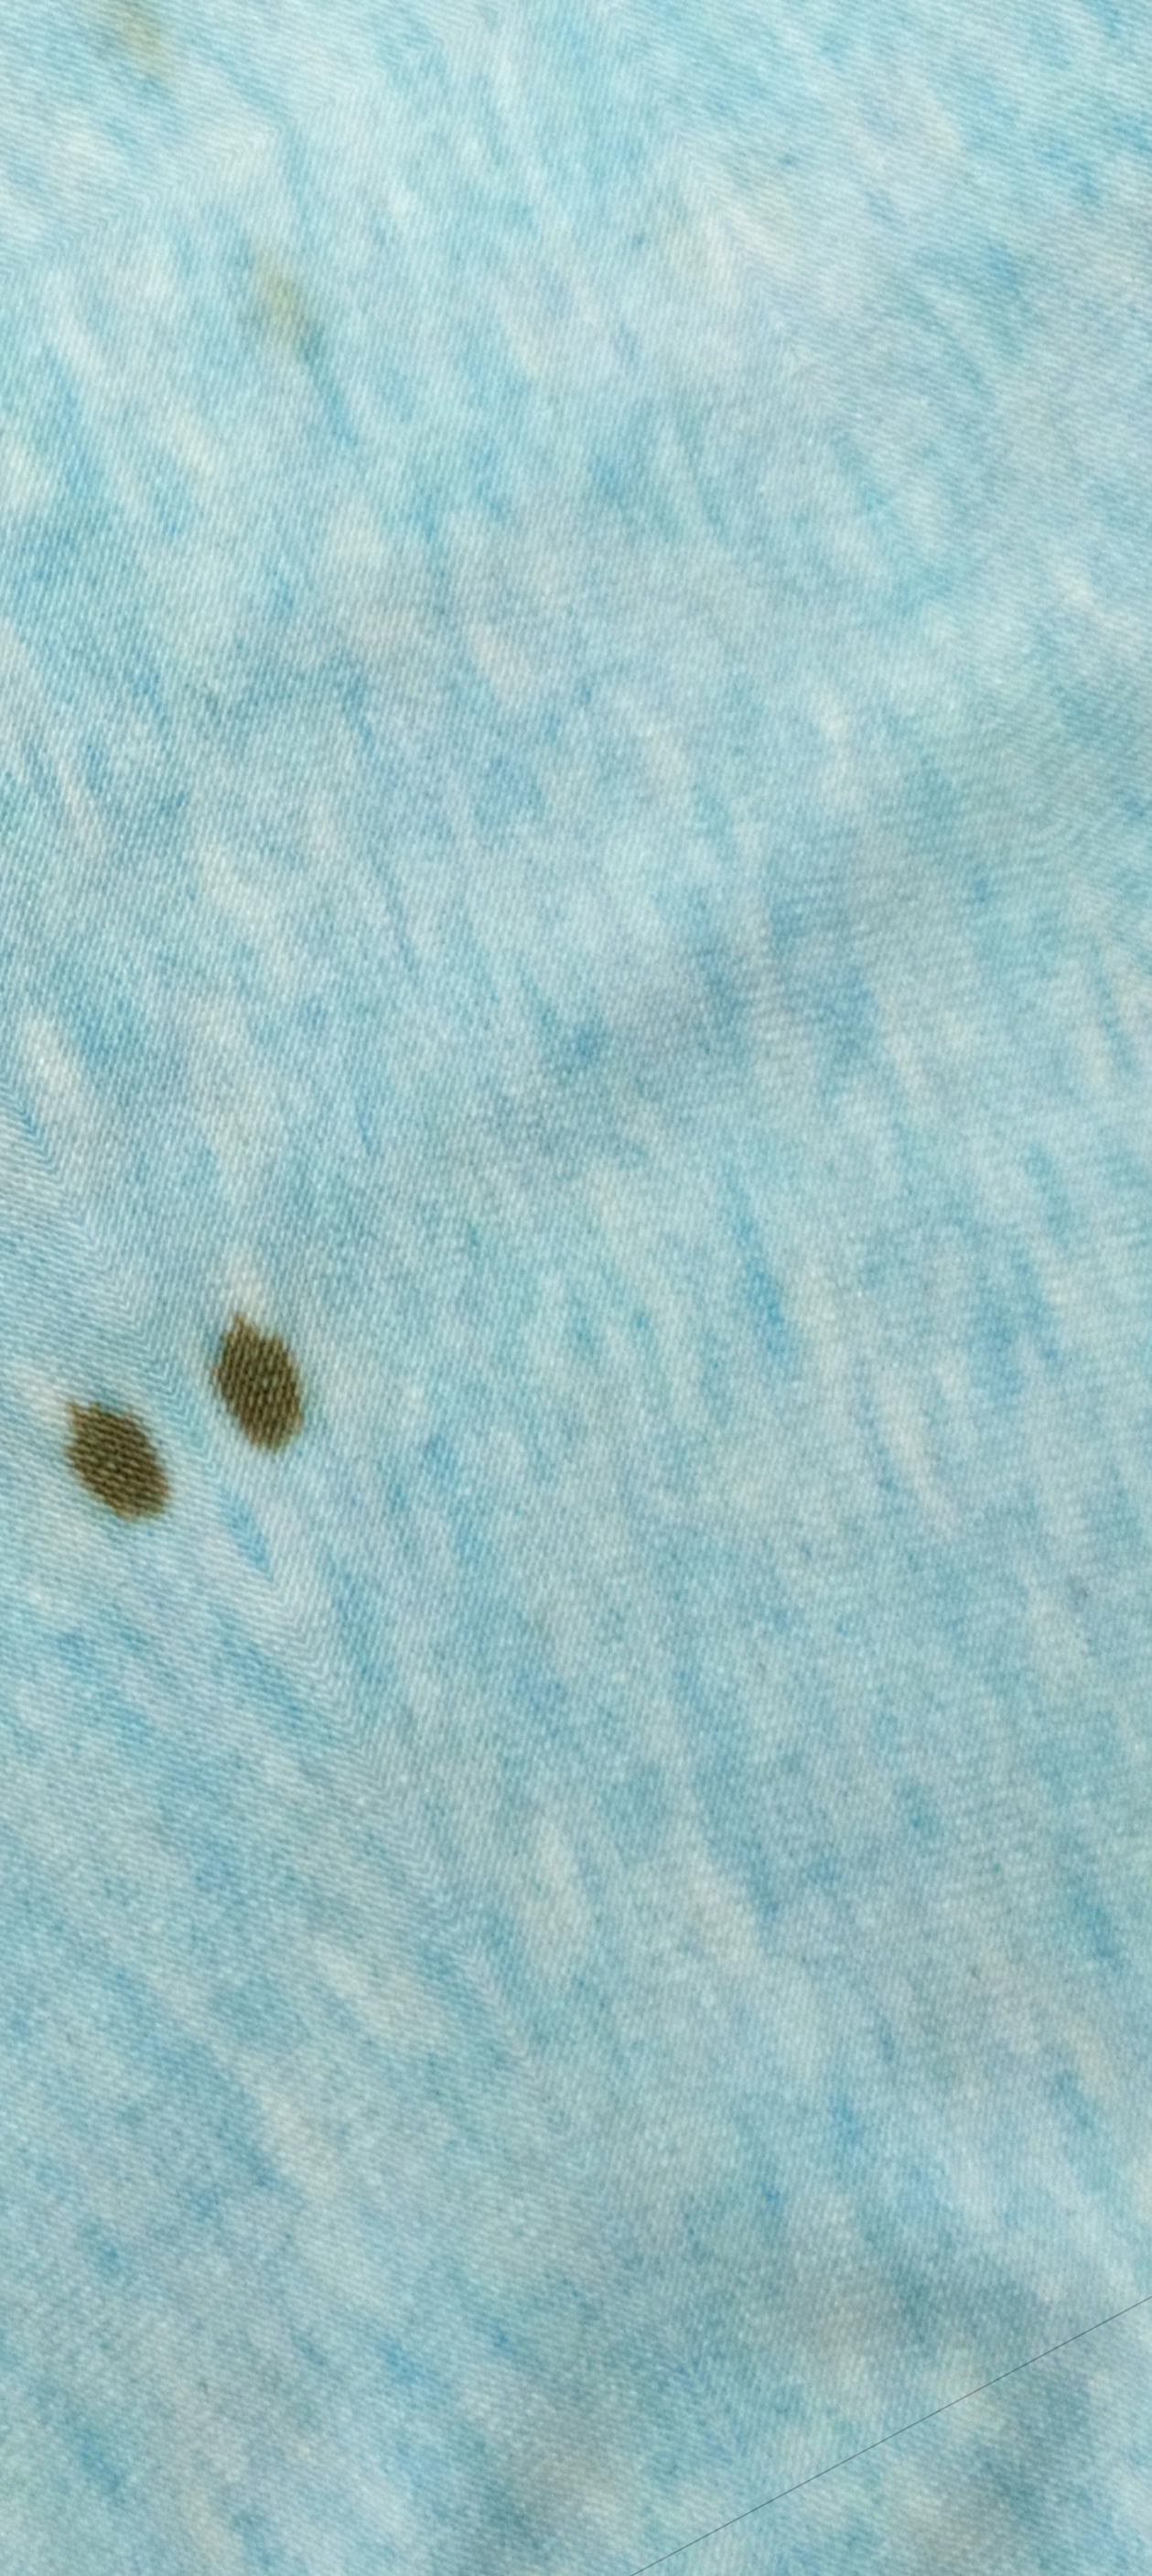stain: (35, 1377, 171, 1557), (196, 1303, 334, 1474)
